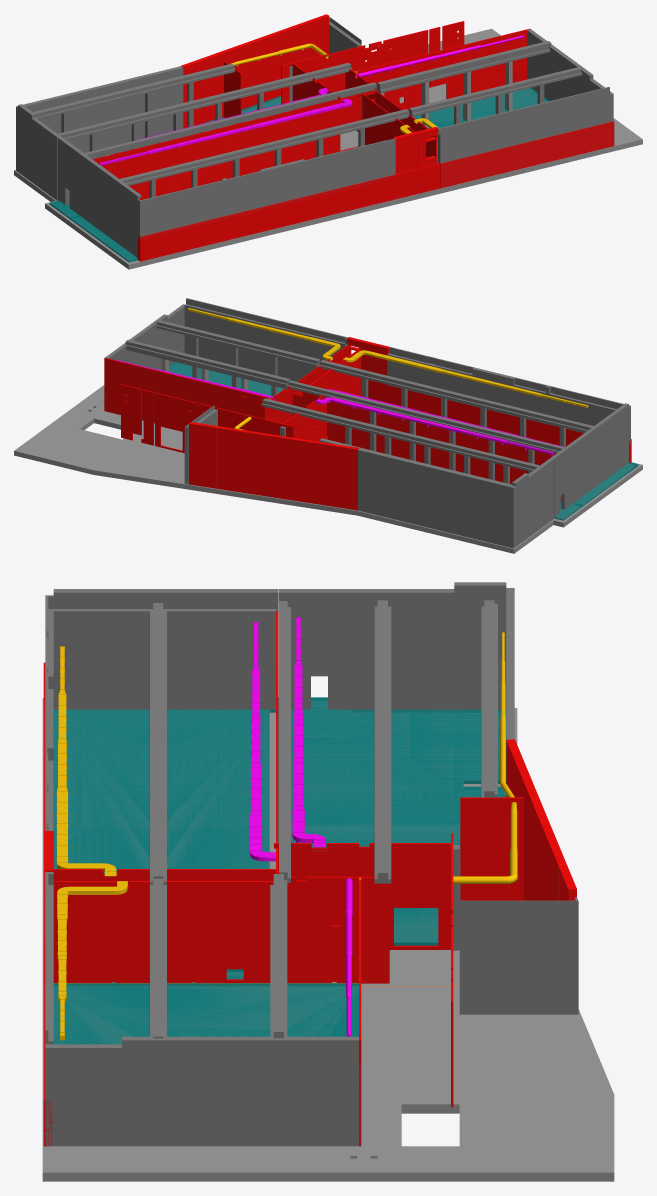
File: 25-07-2025-Kel.Ket.fbx
The picture shows the model from 3 angles, top to bottom: view 1: azimuth 30°, elevation 25°; view 2: azimuth 150°, elevation 25°; view 3: azimuth 270°, elevation 25°; orthographic projection. The views are drawn at different scales.
Parts seen in each view (by area): view 1: IfcProxy (×21), Wand (×14), Geschossdecke (×5); view 2: IfcProxy (×20), Wand (×12), Geschossdecke (×4); view 3: Geschossdecke (×5), IfcProxy (×15), Wand (×7).
Part boxes in pixels (bbox=[...]): IfcProxy (×21): bbox=[16, 17, 613, 257]; Wand (×14): bbox=[93, 14, 614, 261]; Geschossdecke (×5): bbox=[14, 28, 642, 269]; IfcProxy (×20): bbox=[125, 298, 630, 548]; Wand (×12): bbox=[104, 337, 630, 510]; Geschossdecke (×4): bbox=[14, 362, 642, 553]; Geschossdecke (×5): bbox=[42, 697, 614, 1181]; IfcProxy (×15): bbox=[45, 582, 578, 1146]; Wand (×7): bbox=[43, 662, 566, 983].
Size of the model in its own units: 65.74 by 8.8 by 33.48.
